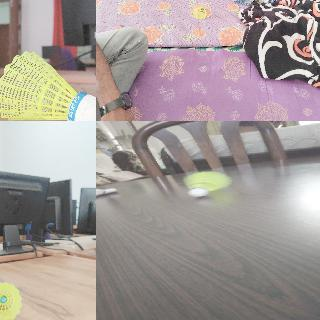shuttlecock: (0, 51, 95, 120), (183, 172, 231, 197), (0, 282, 22, 319), (193, 5, 207, 19)
